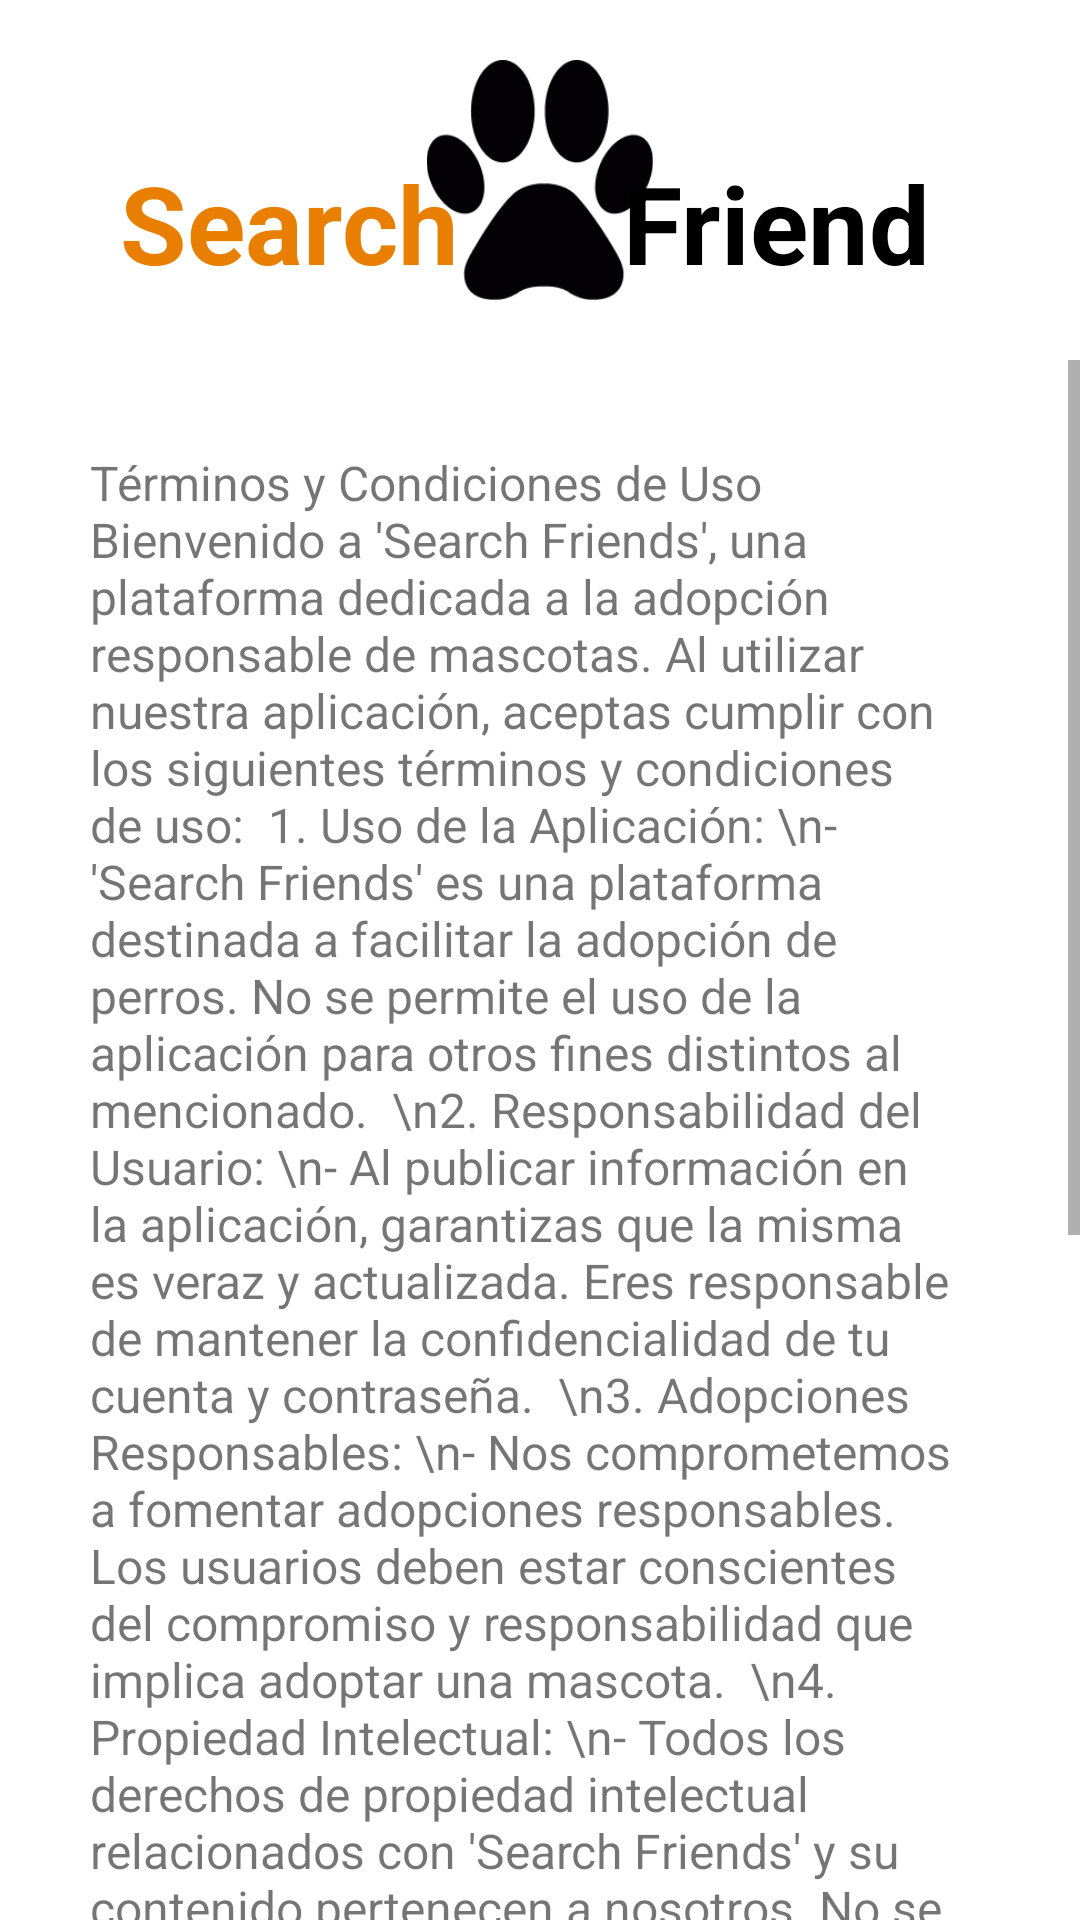

Where icons sit on this 1080×1920 app screen, as Rect(x1, y1, x2, y2):
paw: Rect(427, 60, 624, 300)
